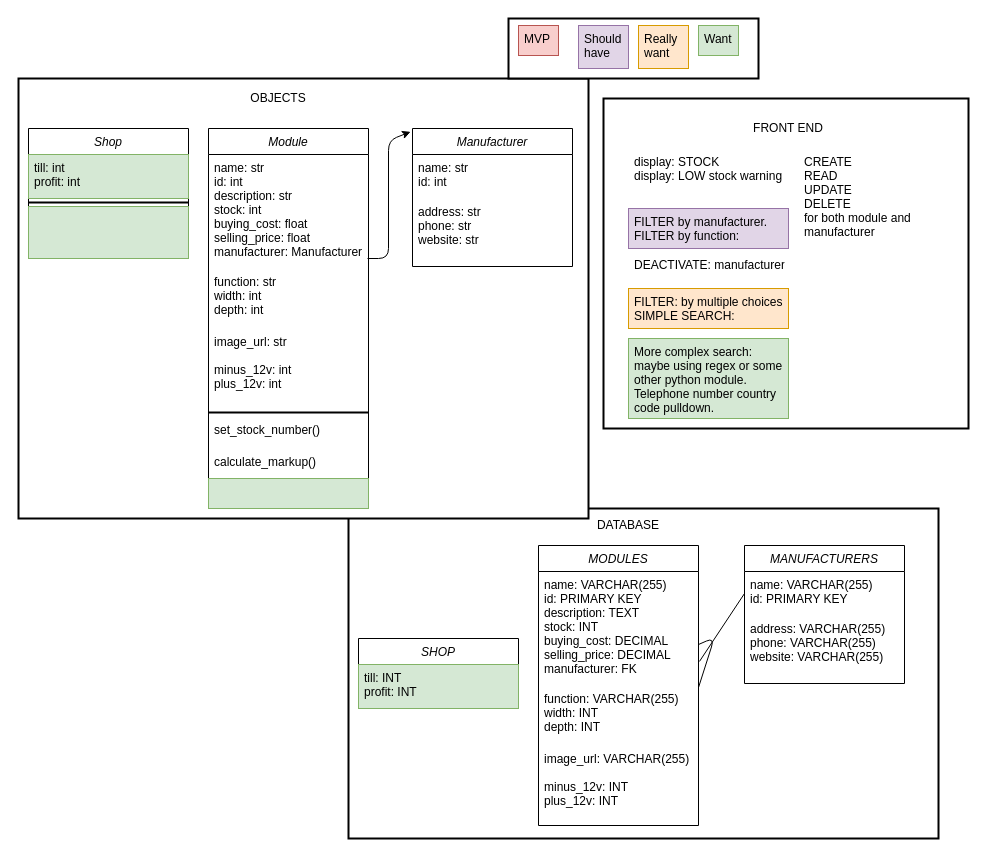
This 986x856 diagram has some shape labels left out. Here are the shapes that lost their labels. From the top down, the centre of each, then its label:
At point (108, 232): "sell_module() calculate_gross_profit()".
At point (288, 493): "sell()".
